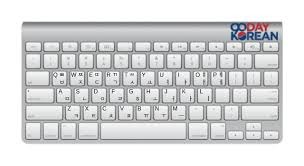keyboard: (4, 12, 294, 152)
